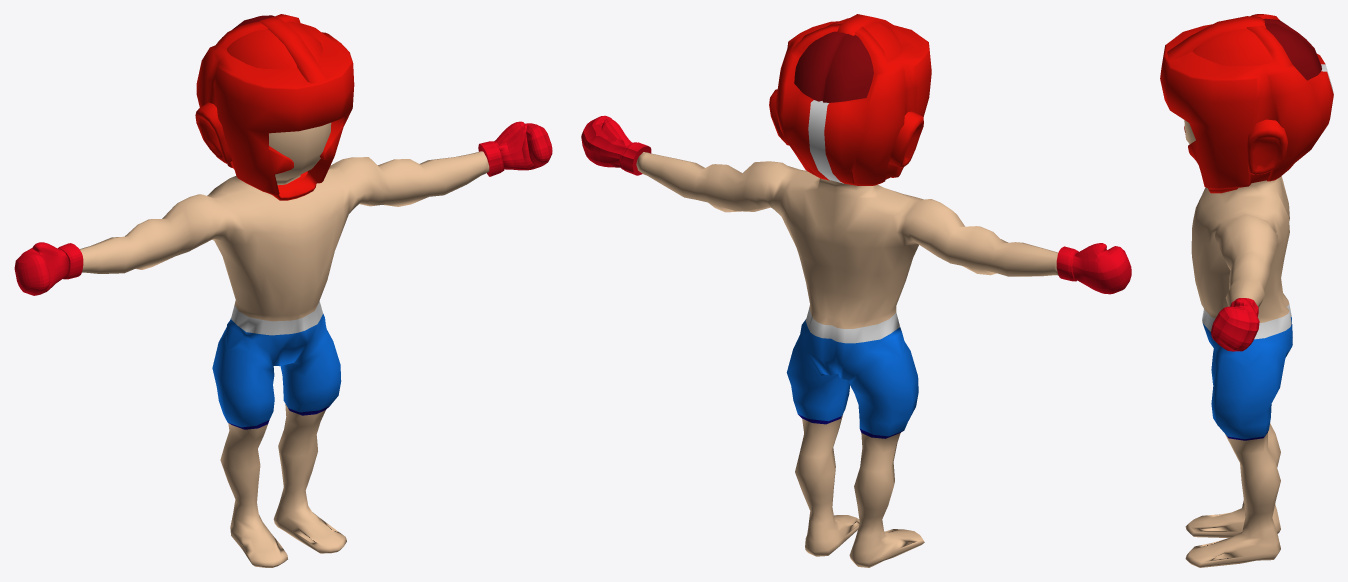
The model's file is Idle.fbx.
3 renders of one model, left to right at view 1: azimuth 30°, elevation 25°; view 2: azimuth 150°, elevation 25°; view 3: azimuth 270°, elevation 25°, orthographic. The views are drawn at different scales.
Visible parts, largest first — view 1: Boxing Glove.001, Boxing Glove.050; view 2: Boxing Glove.001, Boxing Glove.050; view 3: Boxing Glove.001, Boxing Glove.050.
Boxes of the visible parts, x1=… form: Boxing Glove.001: x1=14, y1=121, x2=552, y2=567; Boxing Glove.050: x1=195, y1=14, x2=354, y2=200; Boxing Glove.001: x1=581, y1=115, x2=1131, y2=567; Boxing Glove.050: x1=769, y1=14, x2=931, y2=185; Boxing Glove.001: x1=1184, y1=120, x2=1292, y2=567; Boxing Glove.050: x1=1160, y1=14, x2=1333, y2=193.
Size of the model in its own units: 839 by 781 by 234.
